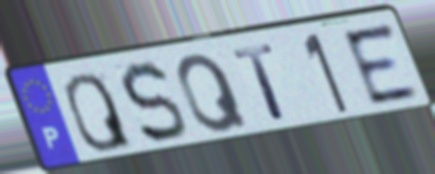1: (301, 30, 352, 116)
E: (338, 19, 424, 108)
Q: (175, 50, 252, 136), (62, 71, 136, 154)
S: (117, 59, 191, 147)
T: (230, 41, 291, 124)
